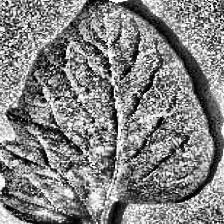spider mites: (0, 0, 213, 224)
